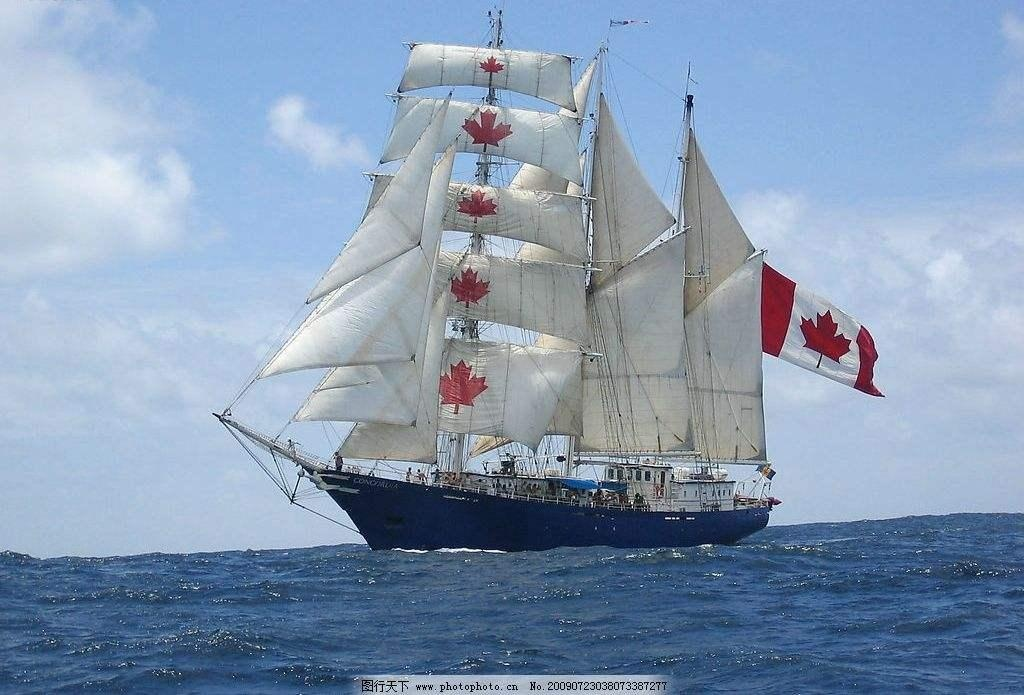fanchuan: (208, 1, 885, 556)
